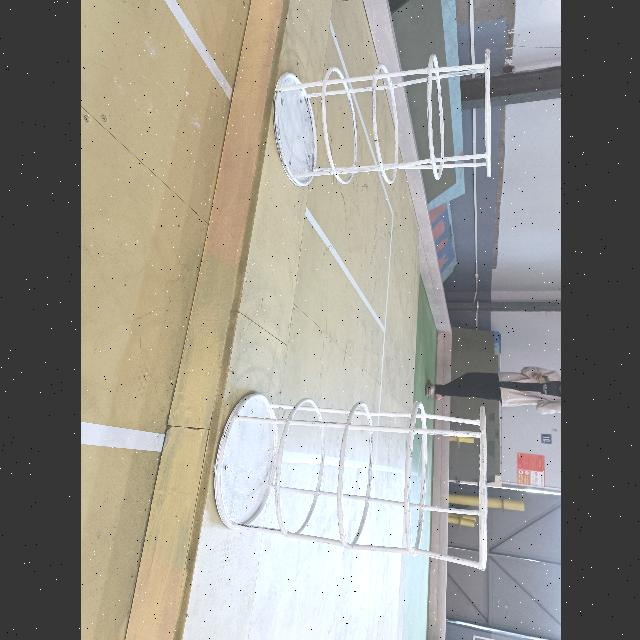S: (211, 390, 491, 573), (270, 46, 492, 191)
